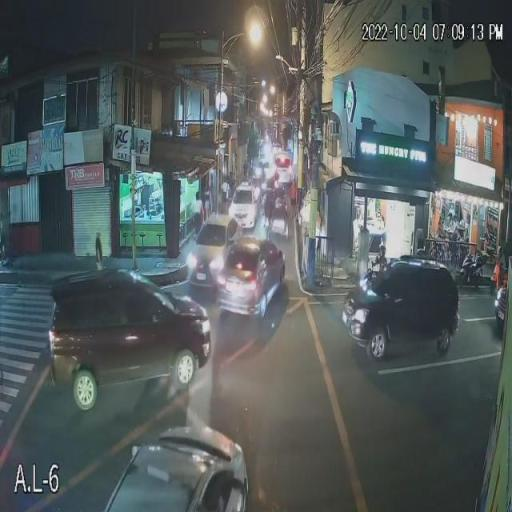helmet: (378, 244, 386, 259)
motorcycle: (360, 264, 378, 290)
rider: (371, 255, 388, 275)
